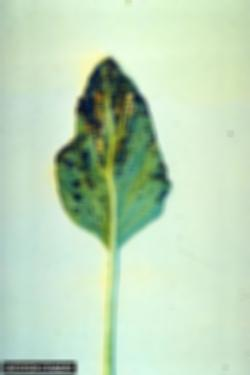Tomato leaf bacterial spot: (47, 49, 172, 256)
